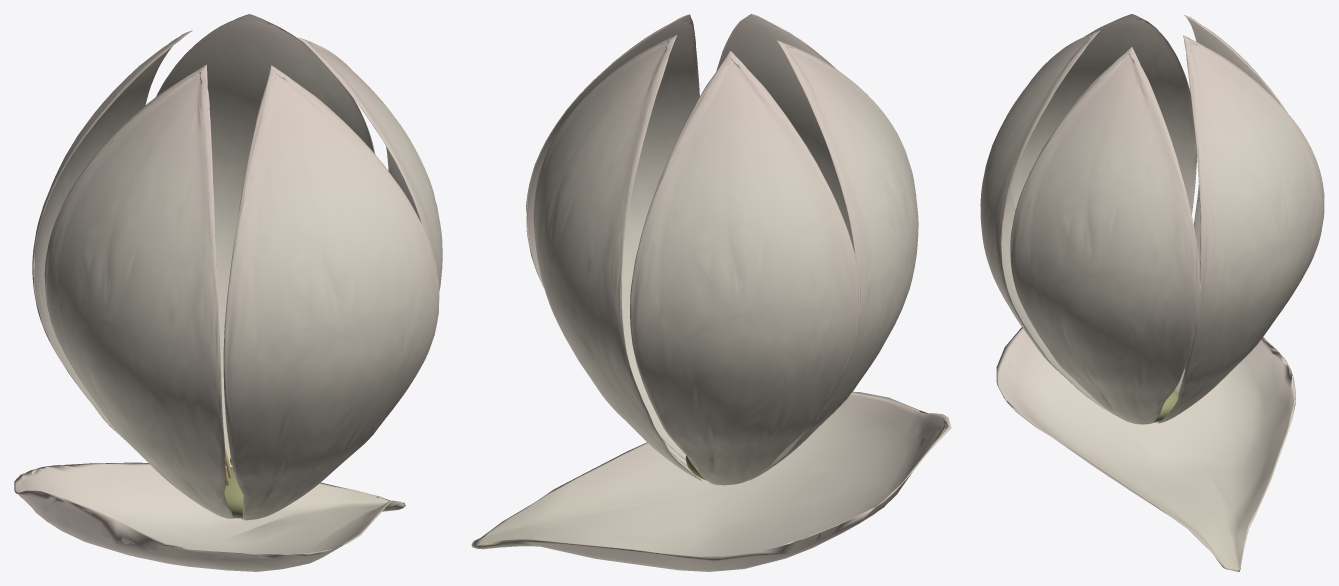
File: soft-lotus-mobile.glb
3 views of the same model, side by side, from view 1: azimuth 30°, elevation 25°; view 2: azimuth 150°, elevation 25°; view 3: azimuth 270°, elevation 25° (orthographic). The views are drawn at different scales.
Visible parts, largest first — view 1: Petal_selvedge, Petal_perch, Decor_Petal, Petal_contact, Petal_about, Petal_forme, Organic_Center; view 2: Petal_about, Decor_Petal, Petal_contact, Petal_perch, Petal_forme, Petal_selvedge; view 3: Petal_forme, Petal_contact, Decor_Petal, Petal_perch, Petal_selvedge, Petal_about.
Boxes of the visible parts, x1,y1,x2,y2 form: Petal_selvedge: (223, 65, 439, 520); Petal_perch: (44, 64, 234, 518); Decor_Petal: (14, 462, 405, 571); Petal_contact: (156, 14, 374, 468); Petal_about: (32, 30, 193, 439); Petal_forme: (298, 37, 442, 291); Organic_Center: (224, 443, 243, 518); Petal_about: (630, 51, 860, 485); Decor_Petal: (471, 391, 951, 571); Petal_contact: (533, 35, 701, 480); Petal_perch: (749, 40, 918, 480); Petal_forme: (526, 14, 699, 459); Petal_selvedge: (716, 14, 853, 249); Petal_forme: (1010, 47, 1200, 424); Petal_contact: (1158, 35, 1324, 423); Decor_Petal: (996, 327, 1295, 571); Petal_perch: (1011, 14, 1196, 214); Petal_selvedge: (980, 30, 1115, 415); Petal_about: (1175, 15, 1287, 393).
Size of the model in its own units: 3.17 by 3.98 by 2.68.
